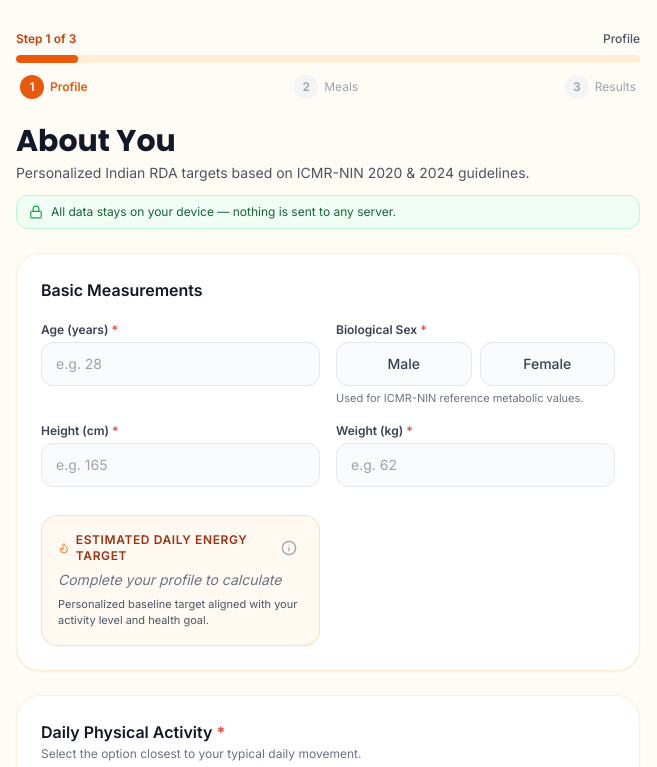
Test: Phase 2 UI & Pages Integration Tests › Profile Page › disables "Lose weight" option when user is underweight (BMI < 18.5)
Type "25" into the number field labelled "Age (years) *".
click(180, 364); type("25")  # box [41,342,320,386]
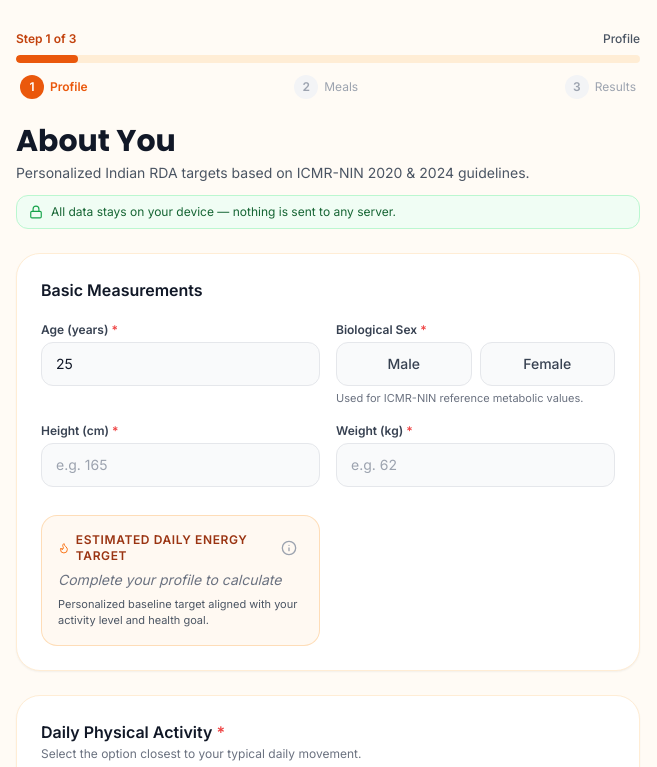
Type "175" into the number field labelled "Height (cm) *".
click(180, 464); type("175")  # box [41,442,320,486]
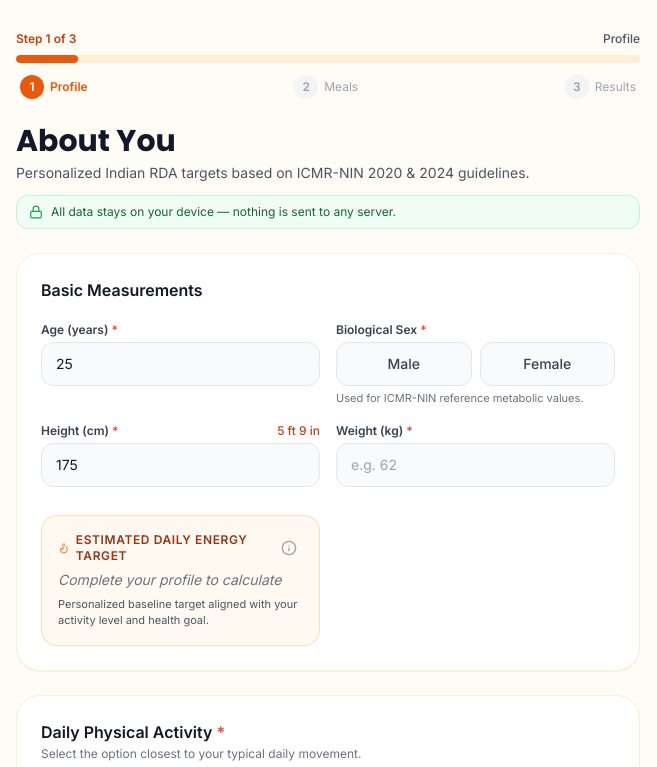
Type "45" into the number field labelled "Weight (kg) *".
click(476, 464); type("45")  # box [336,442,615,486]
(page scrolled)
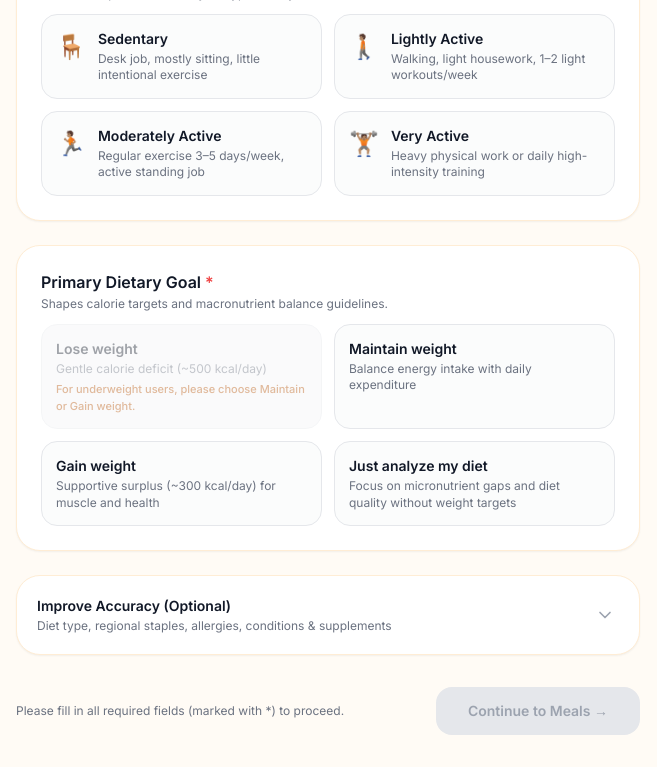
Expected: the text "For underweight users, please choose Maintain or Gain weight" is shown, [56,382,305,412]
